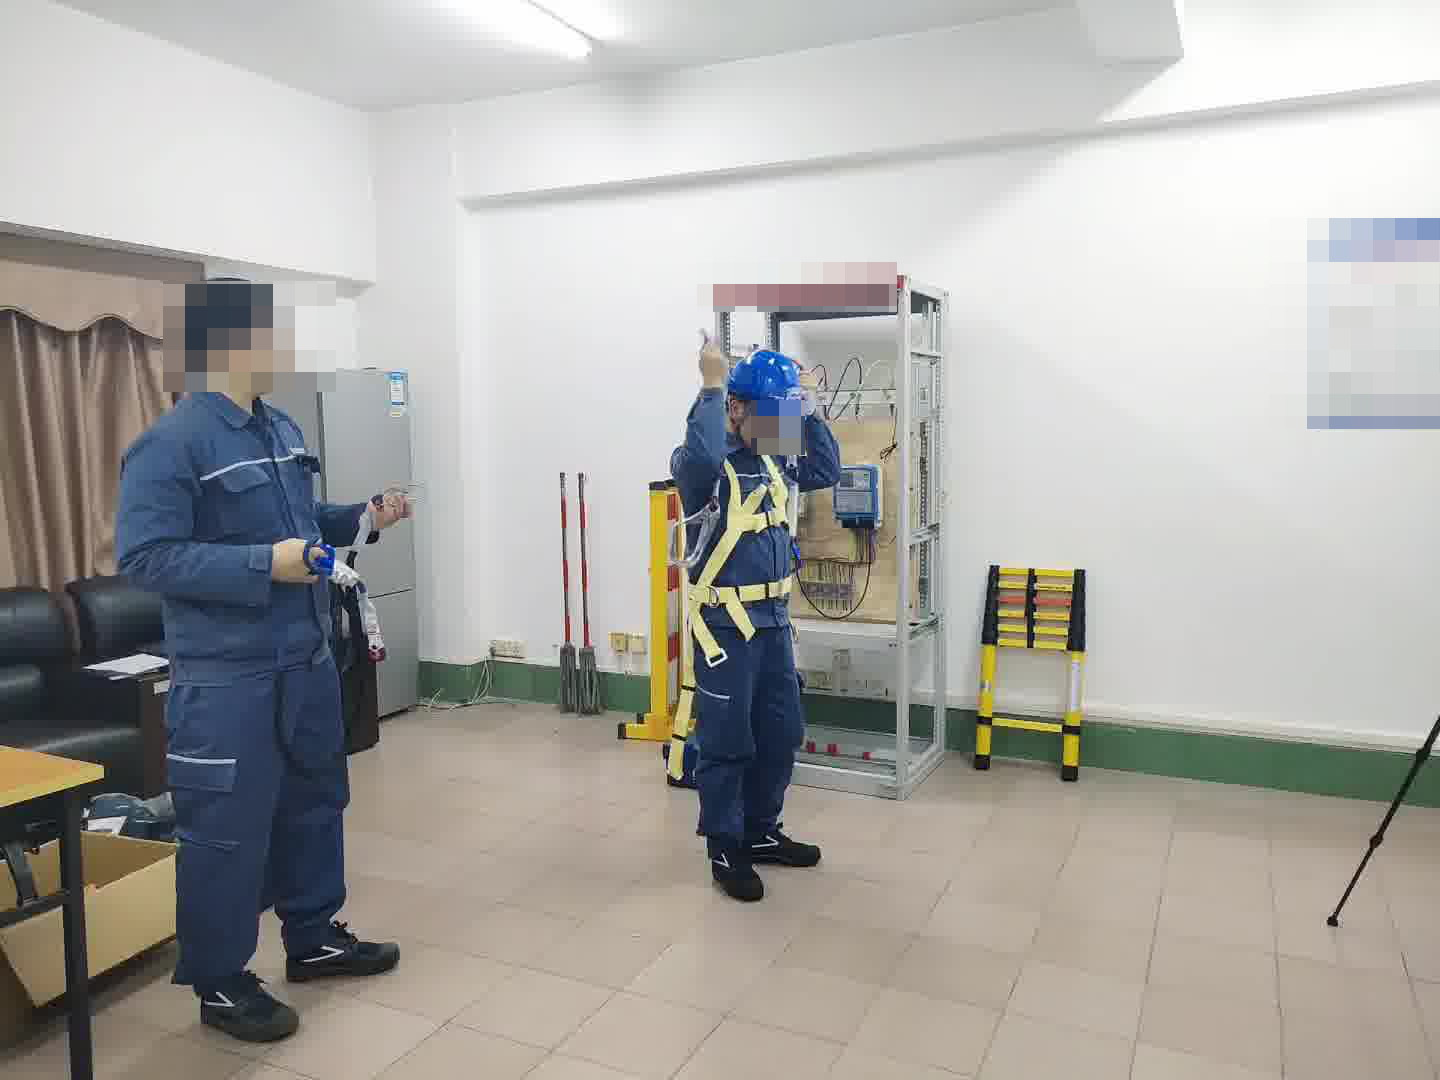downsuit: (166, 687, 351, 979), (687, 629, 807, 848)
halt: (725, 350, 802, 442)
hand: (265, 538, 327, 585), (695, 344, 730, 390)
inear: (725, 389, 754, 439)
noear: (208, 310, 252, 388)
person: (106, 268, 400, 1038), (669, 345, 848, 895)
safebelt: (663, 443, 803, 784)
unhalt: (178, 274, 294, 393)
upsuit: (108, 381, 369, 674), (674, 392, 826, 605)
